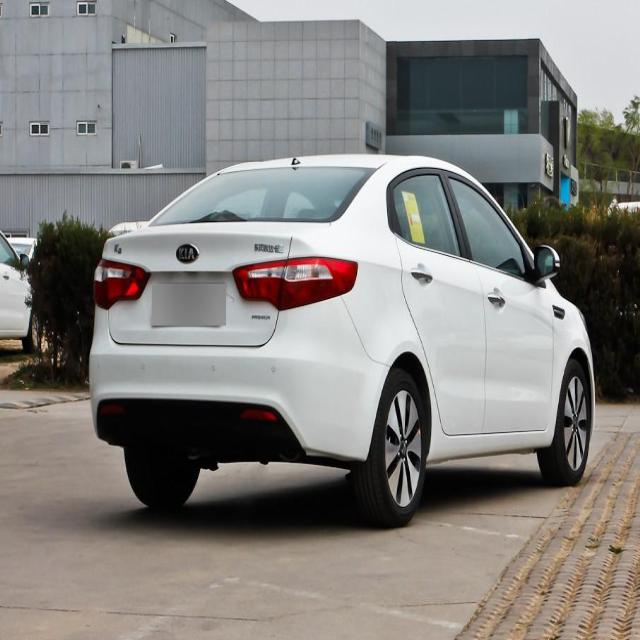back_glass: (144, 163, 378, 231)
back_left_side_light: (89, 252, 153, 314)
back_right_side_light: (228, 250, 363, 318)
door: (383, 162, 498, 461)
front_right_side_door: (438, 160, 560, 446)
front_right_side_mirror: (528, 236, 564, 304)
rear_bumper: (82, 330, 393, 470)
wheel: (363, 354, 437, 537), (535, 339, 594, 488), (122, 437, 202, 515)
